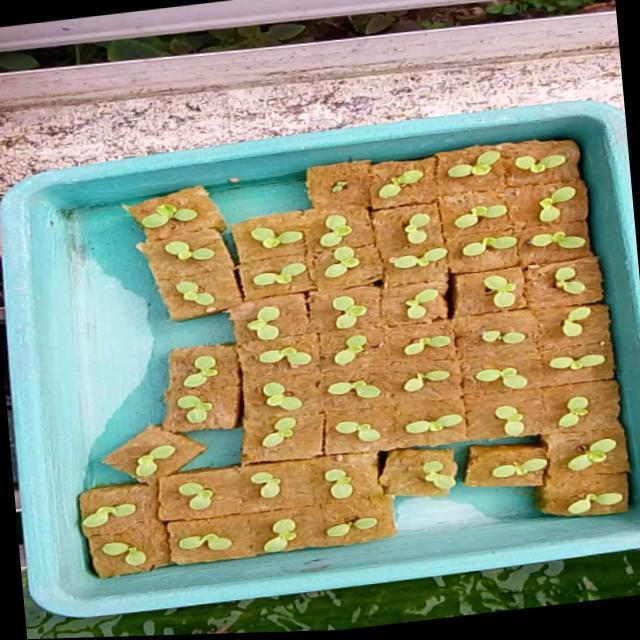Baby: (131, 433, 188, 478), (536, 394, 598, 433), (90, 535, 157, 569), (104, 501, 158, 535), (258, 342, 308, 375), (245, 381, 302, 409), (469, 319, 532, 344), (256, 260, 312, 288), (400, 286, 447, 319), (555, 258, 597, 294), (450, 150, 502, 178), (145, 206, 200, 231), (528, 227, 590, 249), (381, 170, 426, 199), (168, 529, 230, 550), (176, 394, 212, 430), (391, 247, 450, 268), (401, 368, 452, 392), (249, 306, 283, 341), (542, 187, 576, 221), (464, 235, 519, 256), (335, 296, 369, 329), (485, 273, 518, 307), (263, 516, 296, 550), (327, 247, 362, 279), (474, 367, 526, 388), (262, 416, 295, 448), (333, 334, 367, 365), (323, 217, 354, 249), (328, 379, 380, 398), (403, 334, 450, 355), (254, 226, 303, 246), (515, 155, 565, 174), (168, 243, 218, 262), (180, 282, 217, 307), (182, 480, 216, 507), (324, 467, 353, 498), (494, 405, 524, 434), (560, 305, 588, 335), (548, 354, 603, 369), (185, 355, 219, 379), (407, 212, 432, 243), (251, 471, 280, 497), (466, 205, 508, 222), (344, 420, 377, 440)
